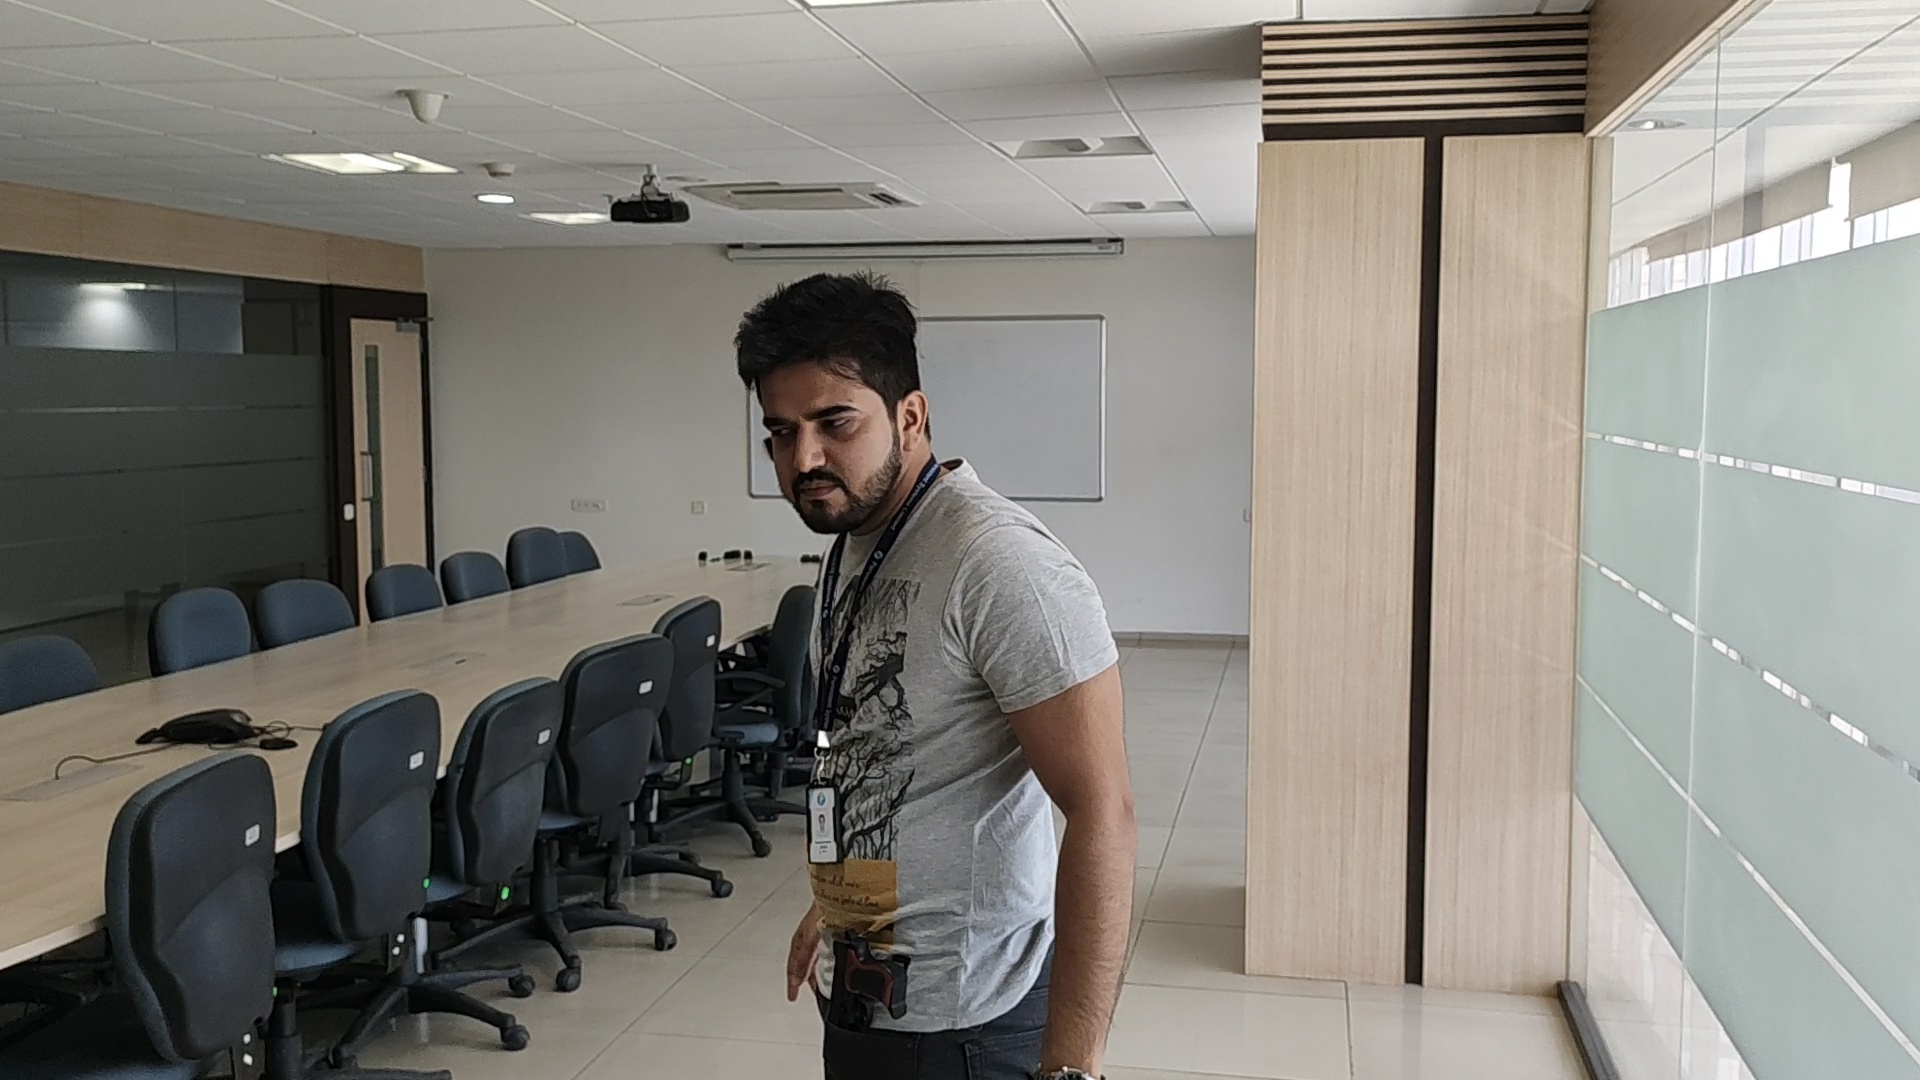gun: (831, 928, 913, 1030)
